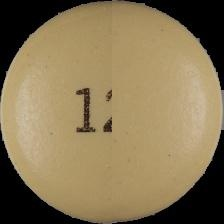42254-124: (0, 0, 224, 224)
